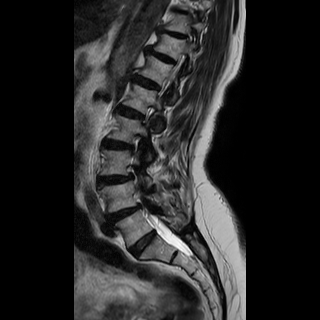LFS1: (133, 98, 158, 127)
LFS2: (124, 128, 146, 159)
